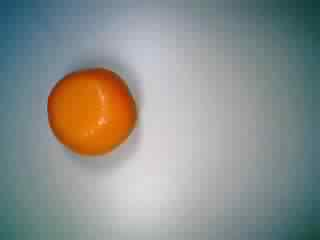orange: (43, 63, 139, 159)
